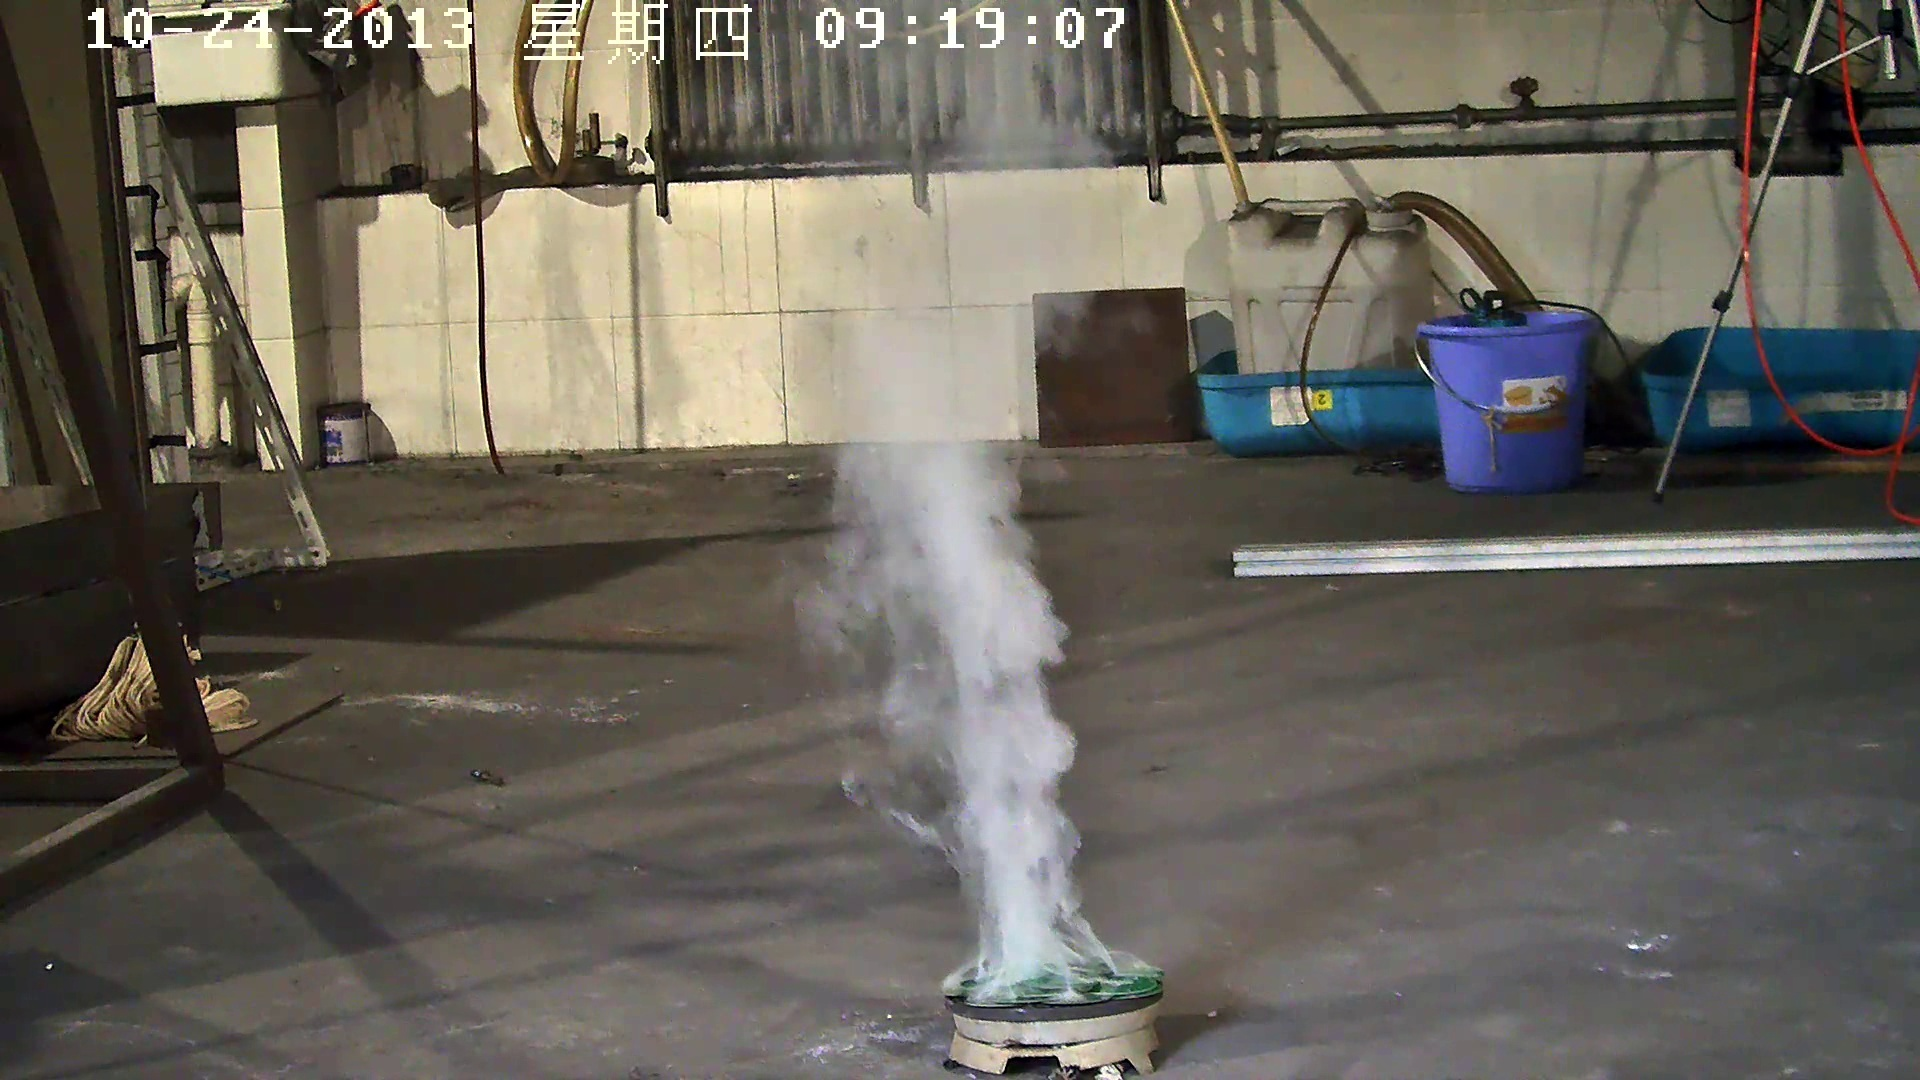smoke: (731, 257, 1178, 1013)
